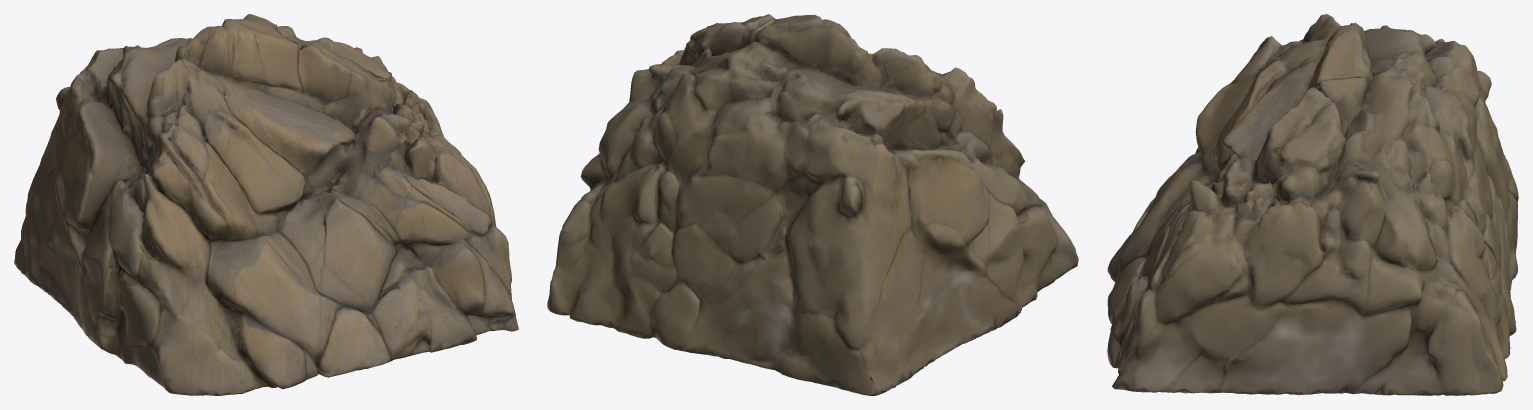
Rendered from Stone Field 1.fbx.
3 views of the same model, side by side, from view 1: azimuth 30°, elevation 25°; view 2: azimuth 150°, elevation 25°; view 3: azimuth 270°, elevation 25° (orthographic). The views are drawn at different scales.
Parts seen in each view (by area): view 1: Mesh_0; view 2: Mesh_0; view 3: Mesh_0.
Boxes of the visible parts, x1,y1,x2,y2 form: Mesh_0: [14, 14, 518, 395]; Mesh_0: [547, 14, 1078, 395]; Mesh_0: [1107, 14, 1518, 395].
Size of the model in its own units: 201 by 146 by 200.
Materials: 1 (1 with a texture image).
